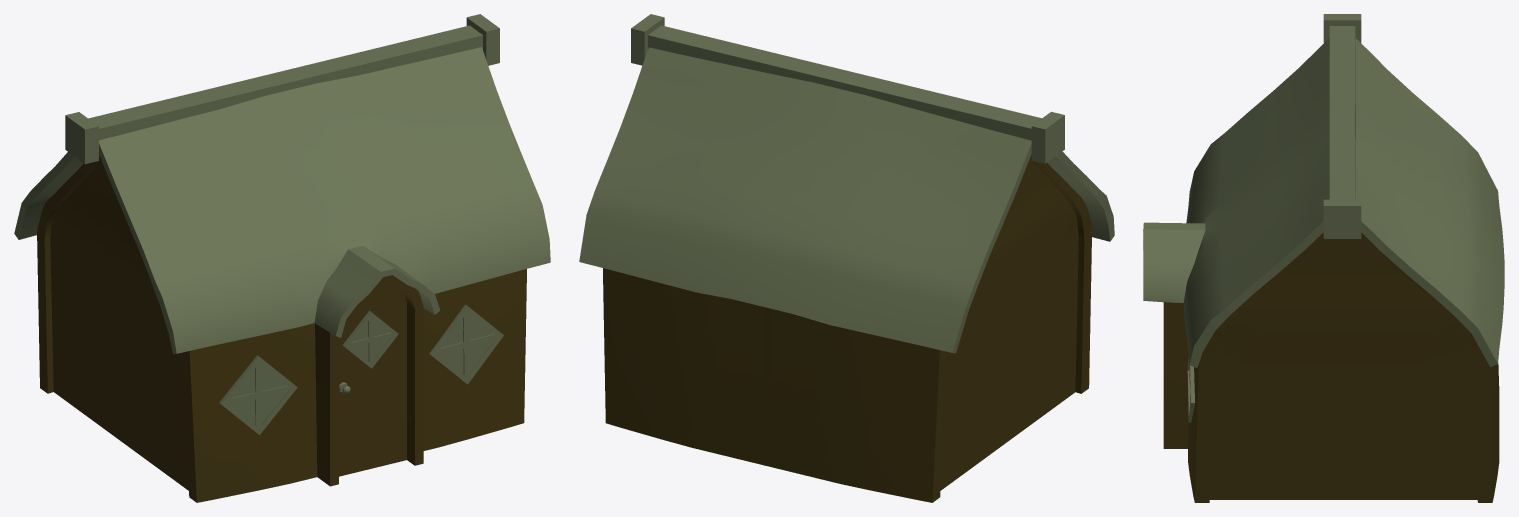
The model's file is basicHut_low.fbx.
3 views of the same model, side by side, from view 1: azimuth 30°, elevation 25°; view 2: azimuth 150°, elevation 25°; view 3: azimuth 270°, elevation 25° (orthographic). The views are drawn at different scales.
Parts seen in each view (by area): view 1: basicHut_low; view 2: basicHut_low; view 3: basicHut_low.
Part boxes in pixels (box(x1,y1,x2,y2)): basicHut_low: box(14, 14, 550, 502); basicHut_low: box(579, 14, 1114, 502); basicHut_low: box(1143, 14, 1504, 502).
Bounding box in the file's own units: 477 × 367 × 379.
